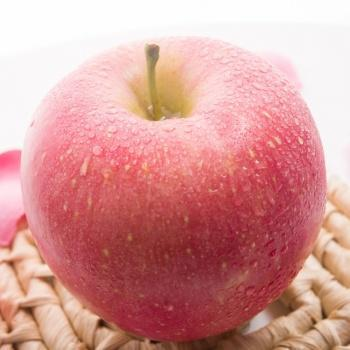apple: (18, 32, 330, 337)
